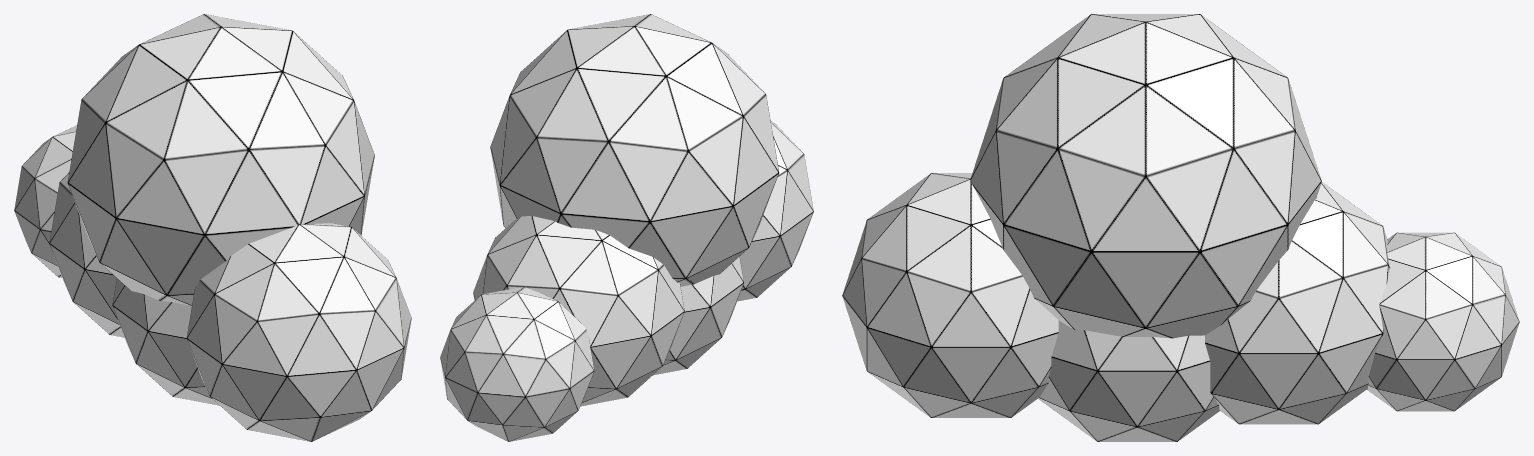
Rendered from ForWeb.glb.
The picture shows the model from 3 angles, left to right: view 1: azimuth 30°, elevation 25°; view 2: azimuth 150°, elevation 25°; view 3: azimuth 270°, elevation 25°; orthographic projection. The views are drawn at different scales.
Visible parts, largest first — view 1: RainyCloud; view 2: RainyCloud; view 3: RainyCloud.
Part boxes in pixels (<box>): RainyCloud: <box>14,14,411,441</box>; RainyCloud: <box>440,14,813,441</box>; RainyCloud: <box>842,14,1519,441</box>.
Bounding box in the file's own units: 1.9 × 2.6 × 3.85.
1 material, 1 textured.
